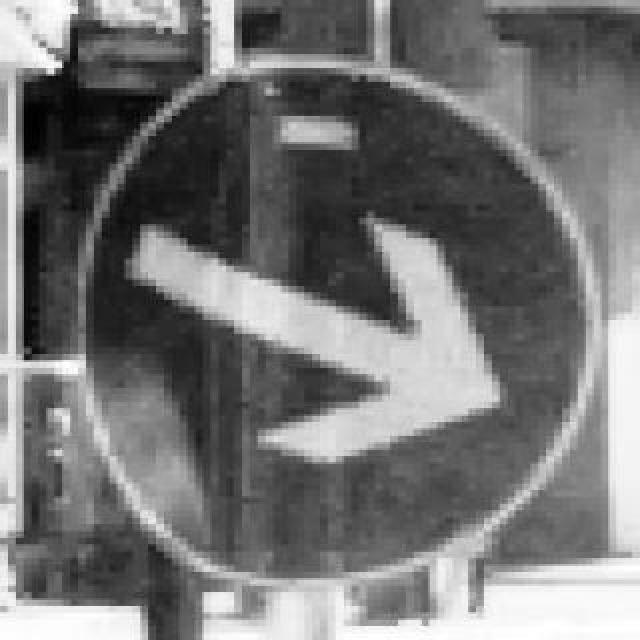keep right: (64, 48, 594, 580)
